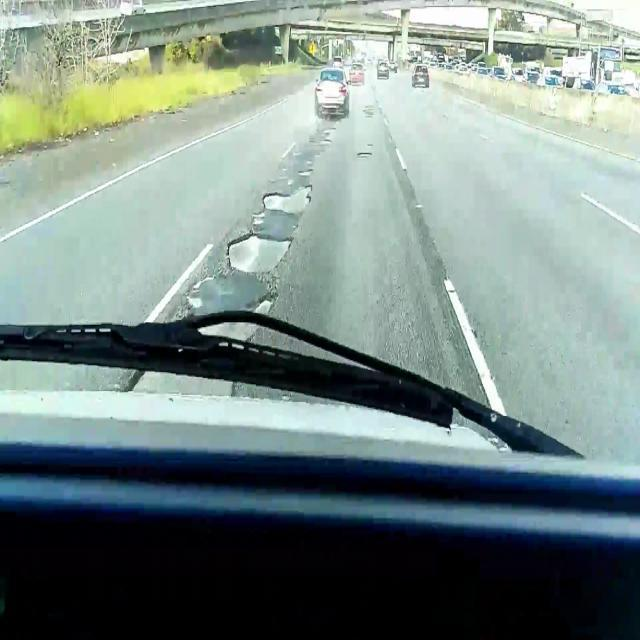pothole: (200, 297, 270, 345), (224, 230, 296, 273), (128, 367, 241, 392), (262, 184, 315, 213), (297, 168, 314, 178), (357, 151, 373, 159)
